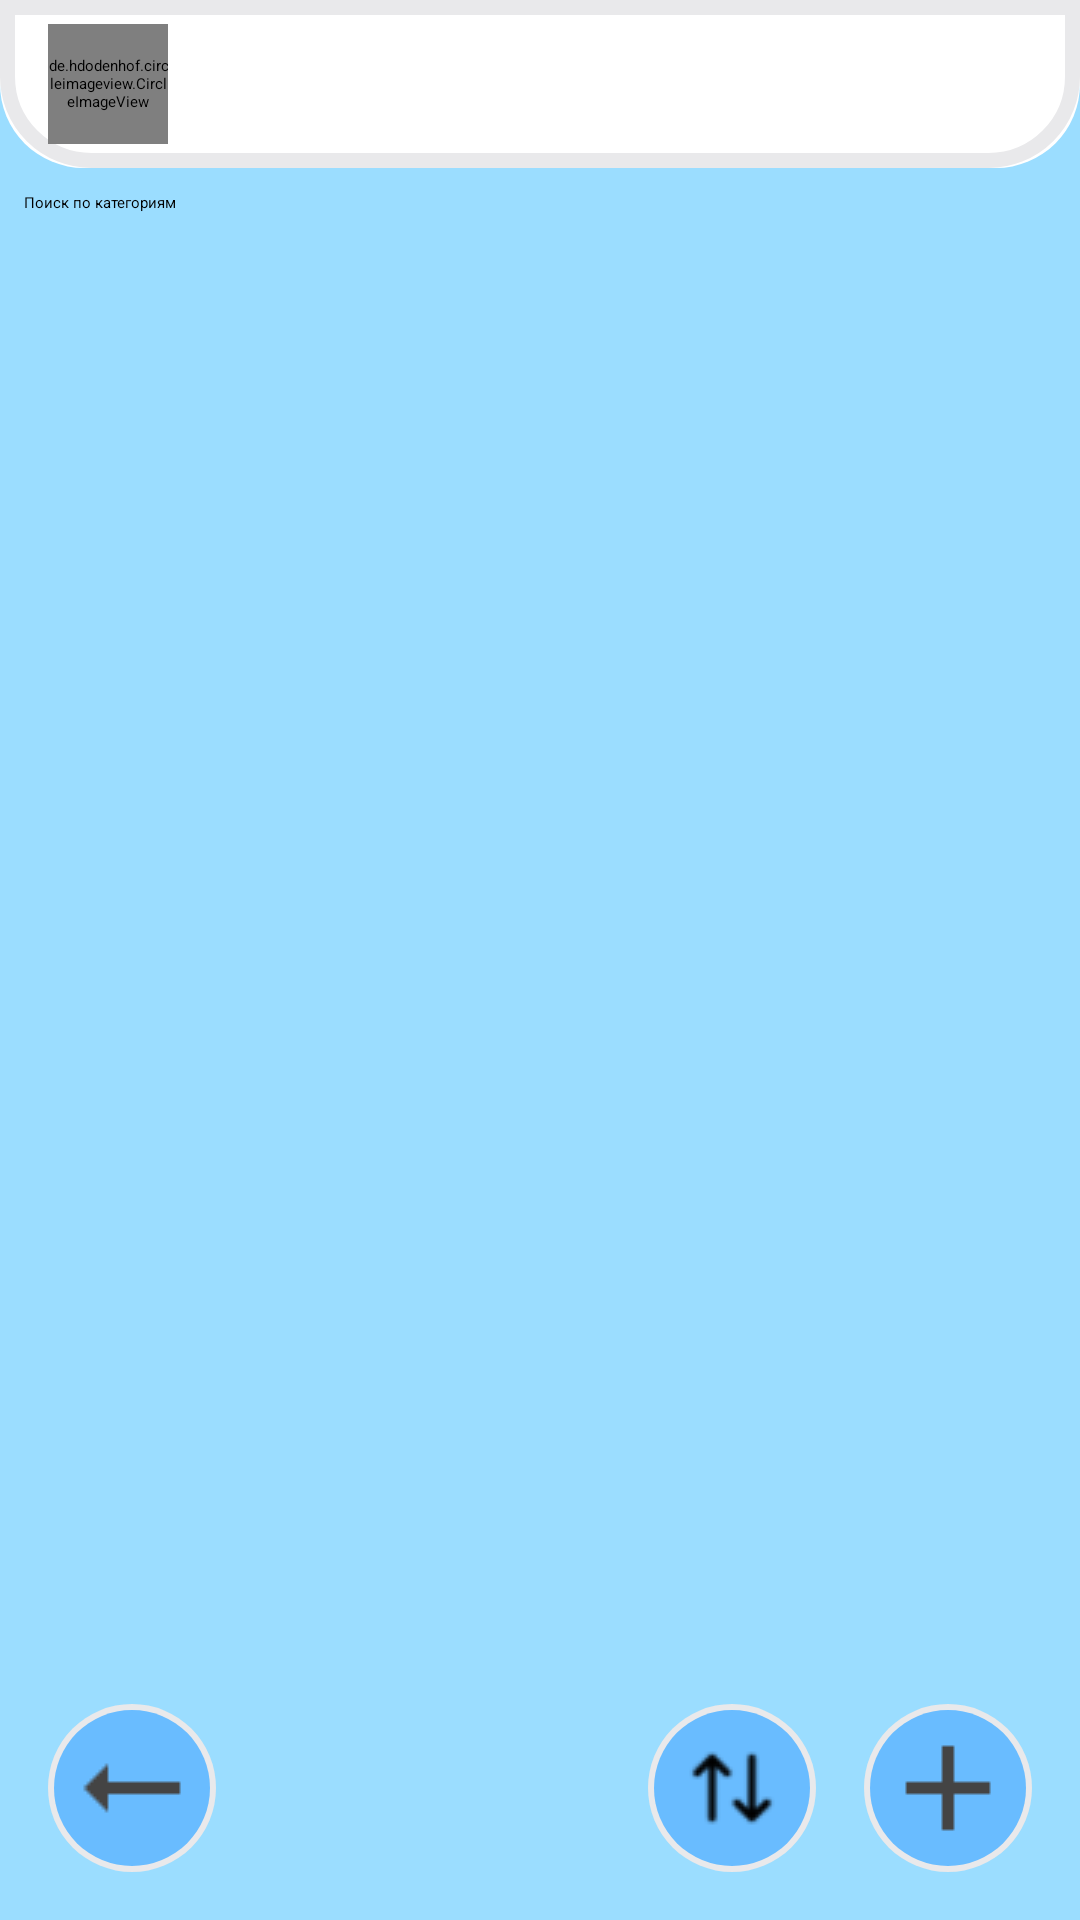

Icons on this 1080px×1920px Android screen, each with its box as (x1, y1, x2, y2):
add: (864, 1704, 1032, 1872)
back: (48, 1704, 216, 1872)
sort: (648, 1704, 816, 1872)
